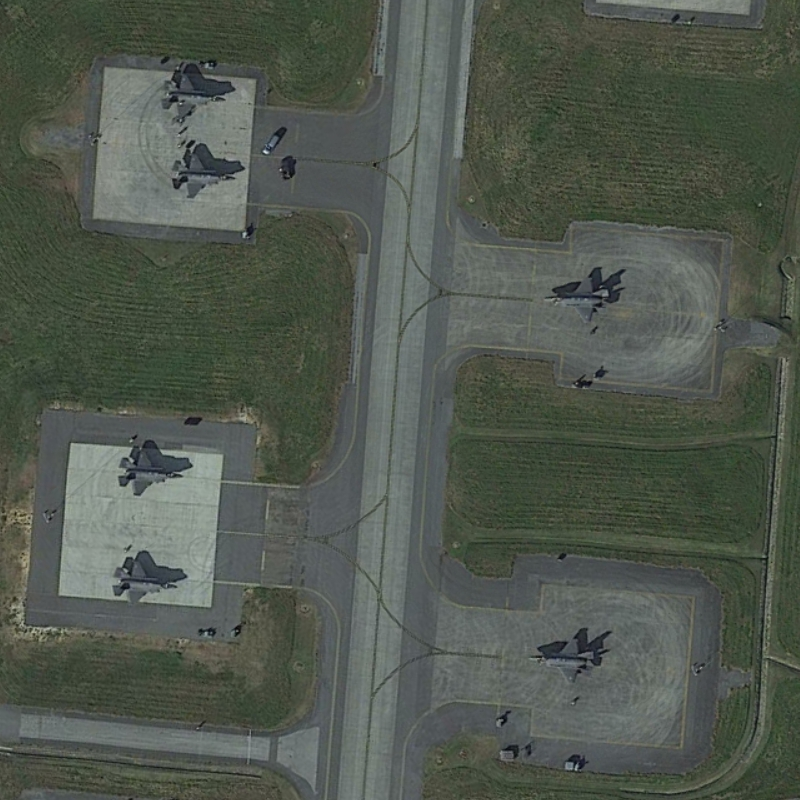A15: (537, 261, 622, 333), (154, 62, 235, 129), (521, 622, 604, 687), (112, 436, 187, 500), (166, 144, 243, 206), (105, 550, 180, 611)
